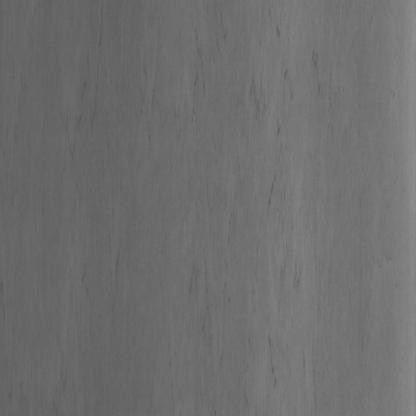silk_spot: (188, 124, 310, 356)
